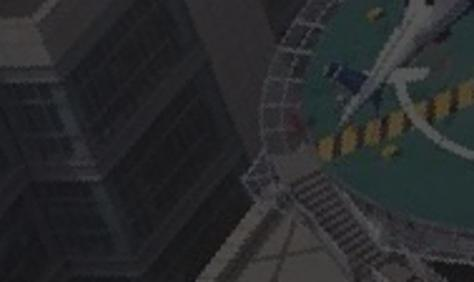Apron: (366, 28, 474, 161)
